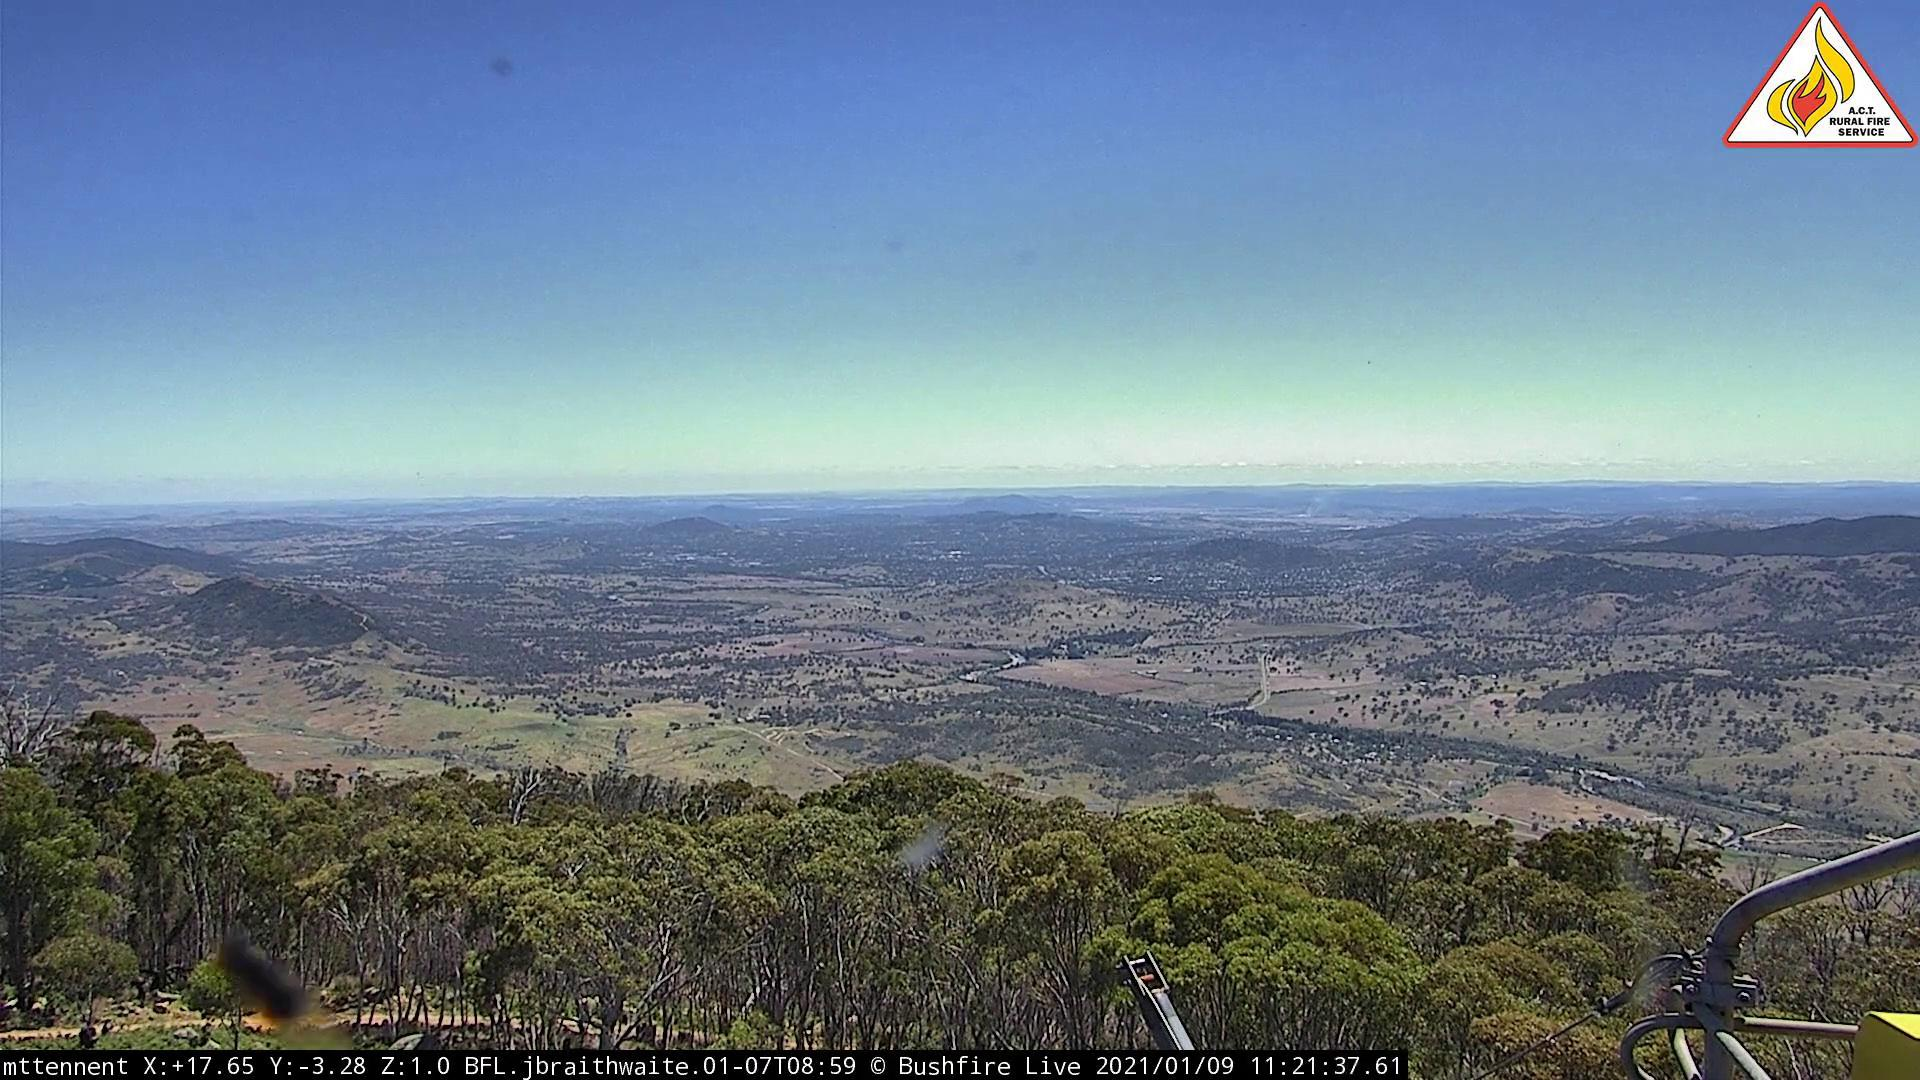instance_salient_object: (1302, 495, 1340, 522)
